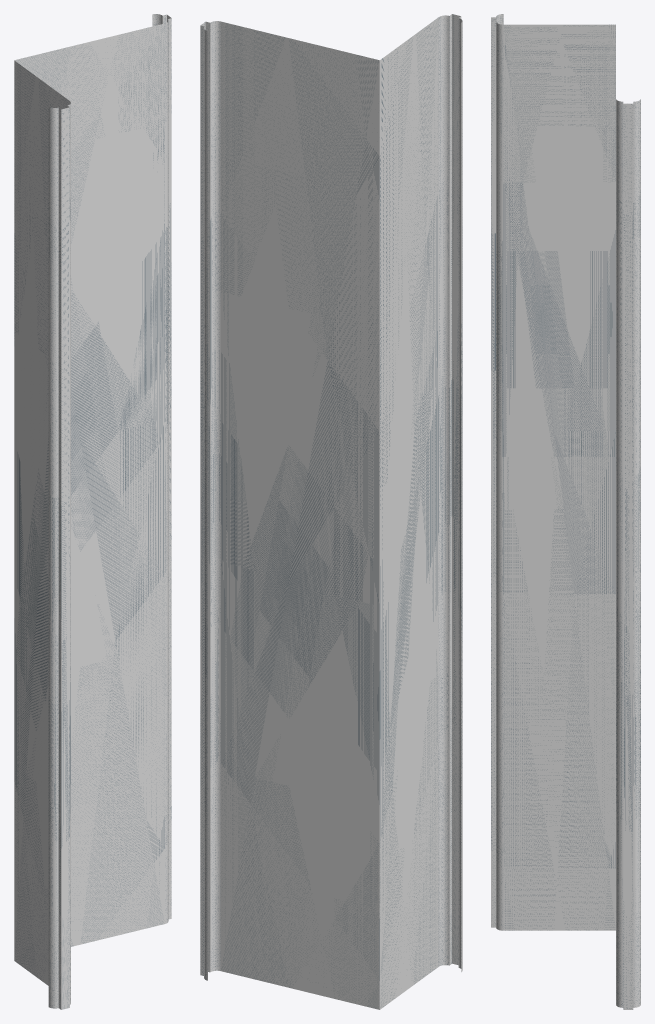
Rendered from PW_CornerFixElem_os_T1_060x085x010x400.dae.
The picture shows the model from 3 angles, left to right: view 1: azimuth 30°, elevation 25°; view 2: azimuth 150°, elevation 25°; view 3: azimuth 270°, elevation 25°; orthographic projection. The views are drawn at different scales.
Visible parts, largest first — view 1: group_0; view 2: group_0; view 3: group_0.
Part boxes in pixels (x1,y1,x2,y2): group_0: [14, 14, 171, 1009]; group_0: [200, 14, 462, 1009]; group_0: [491, 14, 640, 1009].
Size of the model in its own units: 33.46 by 23.62 by 157.
